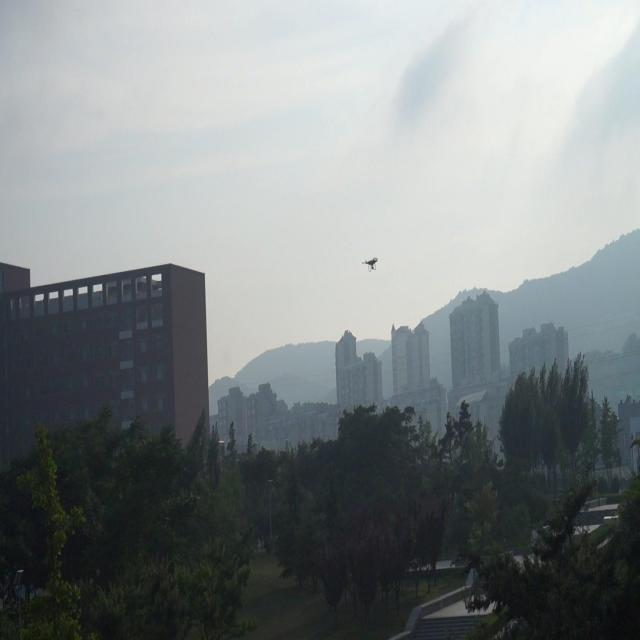UAV: (362, 257, 378, 271)
